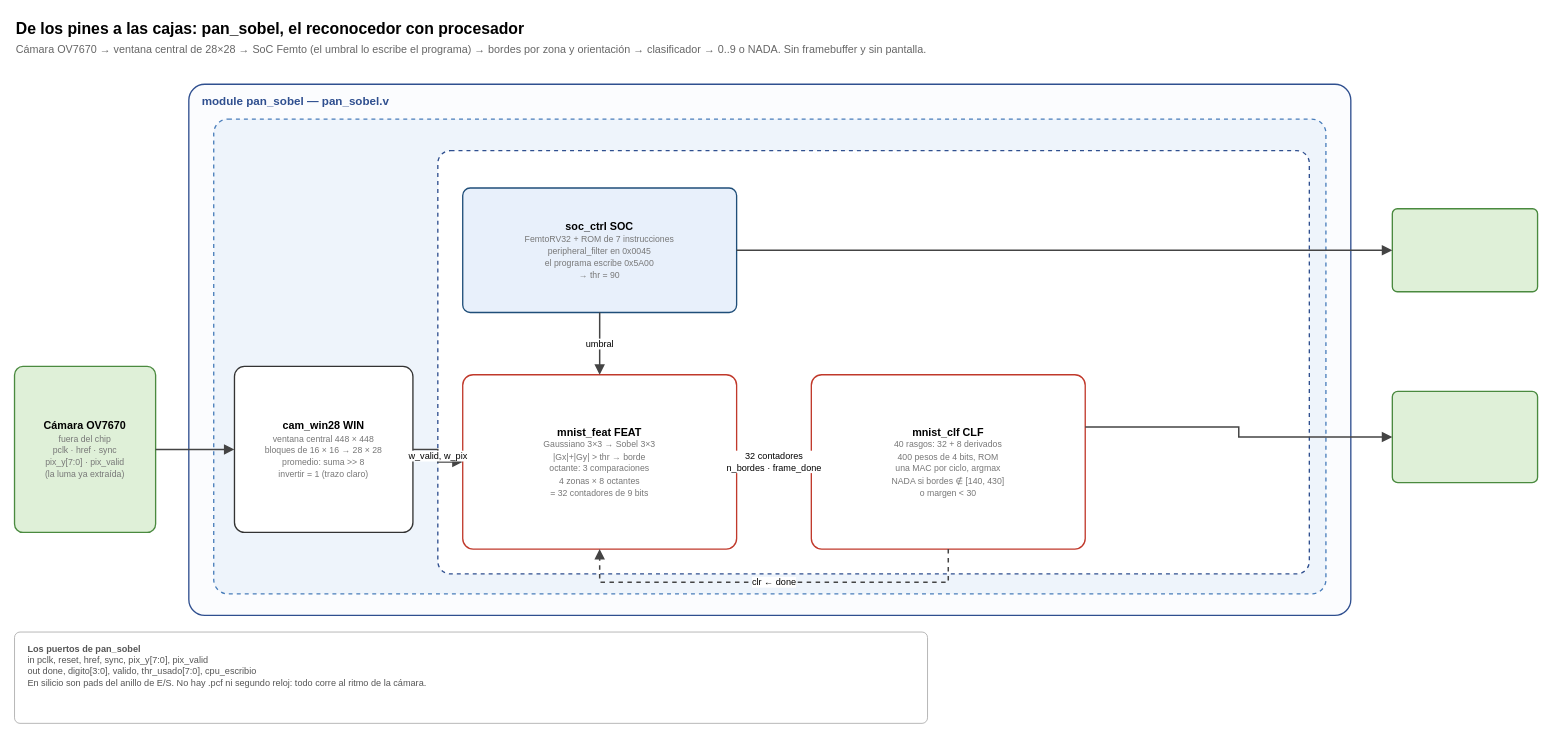
Image size: 1553x738. Some labels were removed from this diagram. The shapes that lost their labels are listed below. From the top down, each one's box as (x1, y1, x2, y2) in pixels, then its label:
(1391, 208, 1538, 292): Observabilidad thr_usado[7:0] cpu_escribio
(213, 118, 1326, 594): un solo reloj: pclk, el reloj de píxel de la cámara
(437, 150, 1310, 574): soc_mnist_top CLF
(1391, 390, 1538, 483): Veredicto done · digito[3:0] valido (0 = NADA)
